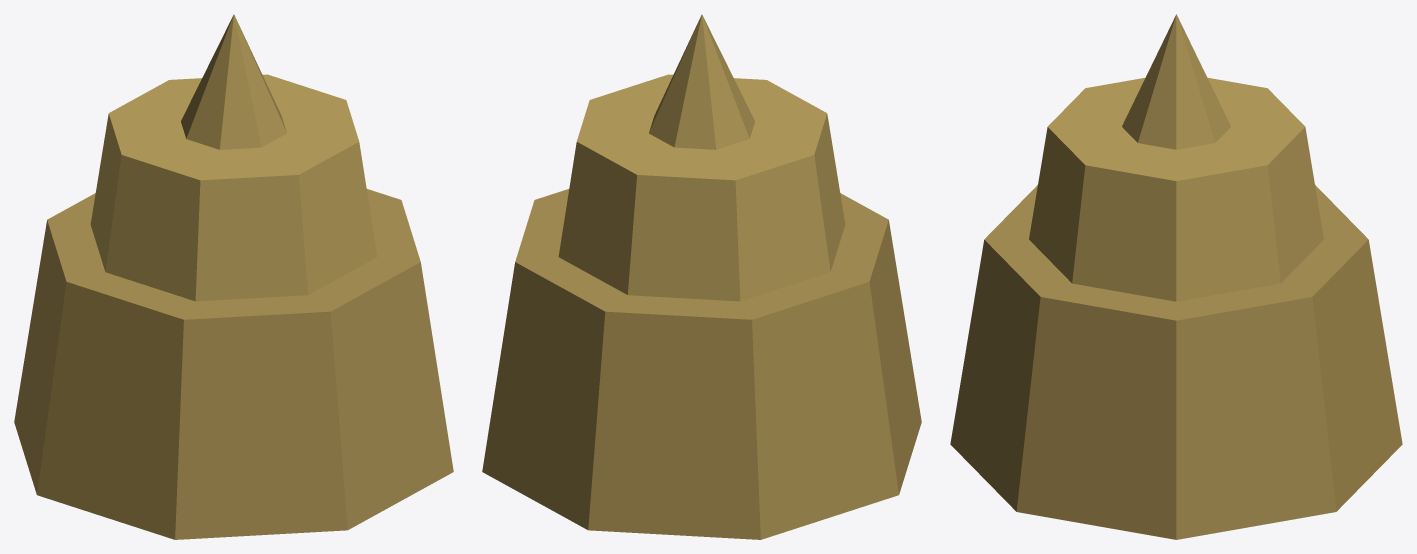
Rendered from hay.glb.
3 views of the same model, side by side, from view 1: azimuth 30°, elevation 25°; view 2: azimuth 150°, elevation 25°; view 3: azimuth 270°, elevation 25° (orthographic).
Visible parts, largest first — view 1: town/hay; view 2: town/hay; view 3: town/hay.
Part boxes in pixels (x1,y1,x2,y2): town/hay: (14,14,453,539); town/hay: (482,14,921,539); town/hay: (950,14,1402,539).
Bounding box in the file's own units: 2 × 2.1 × 2.
